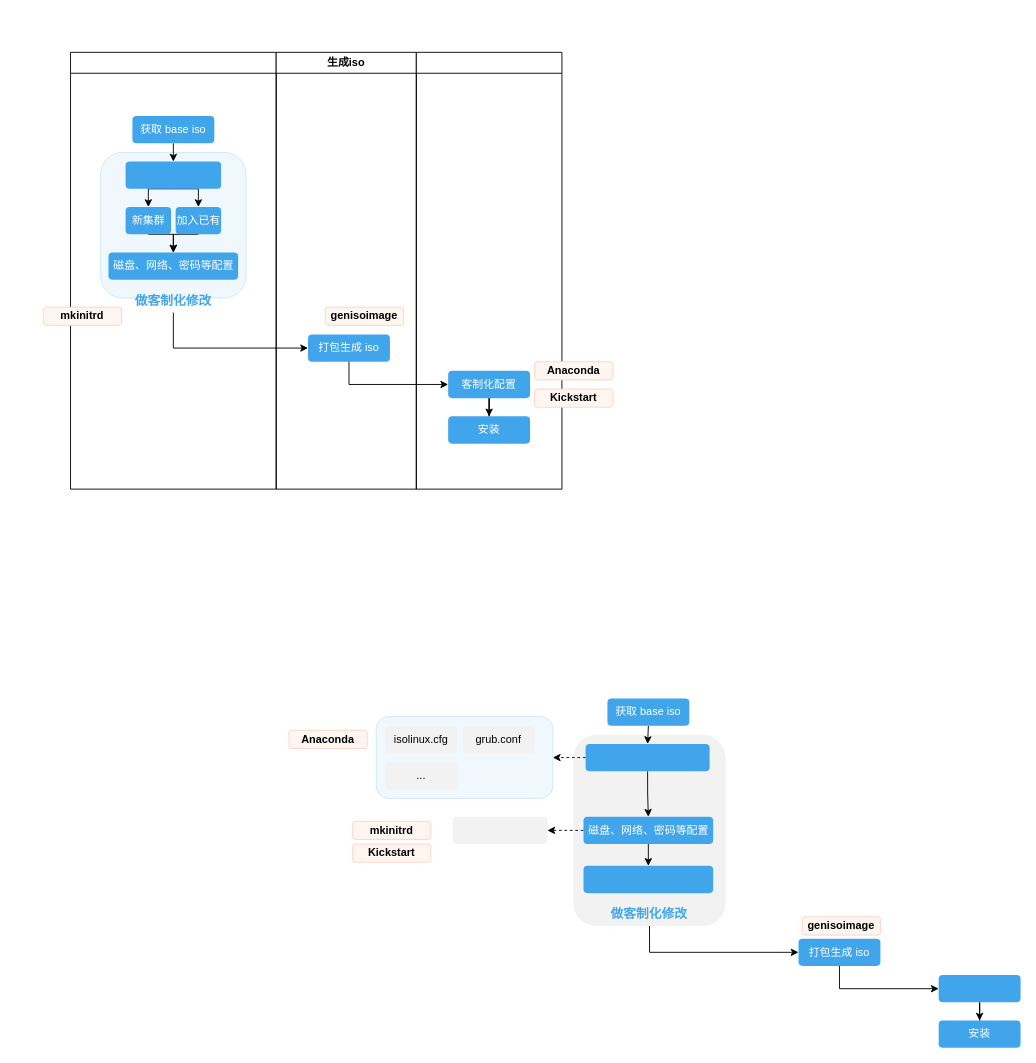
Some shapes in this 1036 by 1063 pixel diagram are drawn without their labels. The box of each missing label's shape, as (x1, y1, x2, y2) in pixels:
修改 isolinux.cfg: (125, 161, 221, 188)
修改引导界面: (585, 743, 709, 771)
安装 iso: (415, 51, 562, 489)
自定义iso: (70, 51, 276, 489)
裁剪、增加 rpm: (583, 865, 713, 893)
输入配置信息: (938, 975, 1020, 1002)
重新编译 initrd.img: (452, 816, 547, 844)
